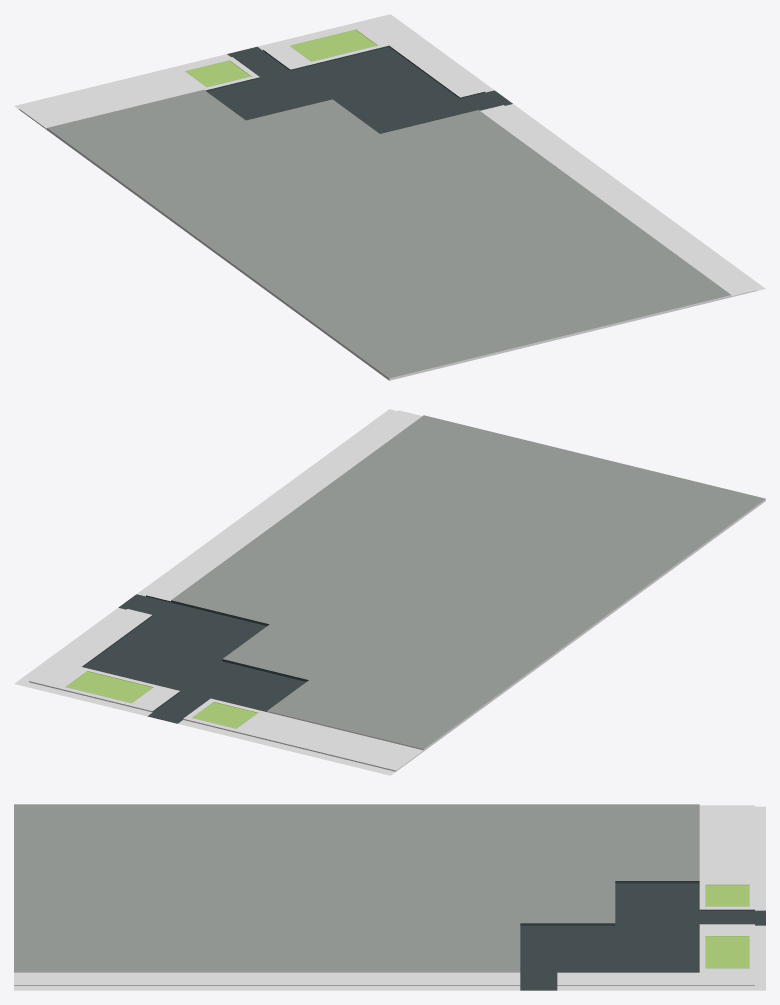
Rendered from gas_station_plane.fbx.
3 views of the same model, one above another, from view 1: azimuth 30°, elevation 25°; view 2: azimuth 150°, elevation 25°; view 3: azimuth 270°, elevation 25° (orthographic).
Parts seen in each view (by area): view 1: Plane; view 2: Plane; view 3: Plane.
Boxes of the visible parts, bbox=[...] form: Plane: bbox=[14, 14, 765, 380]; Plane: bbox=[14, 409, 765, 775]; Plane: bbox=[14, 804, 765, 990].
Bounding box in the file's own units: 10000 × 60 × 17262.
